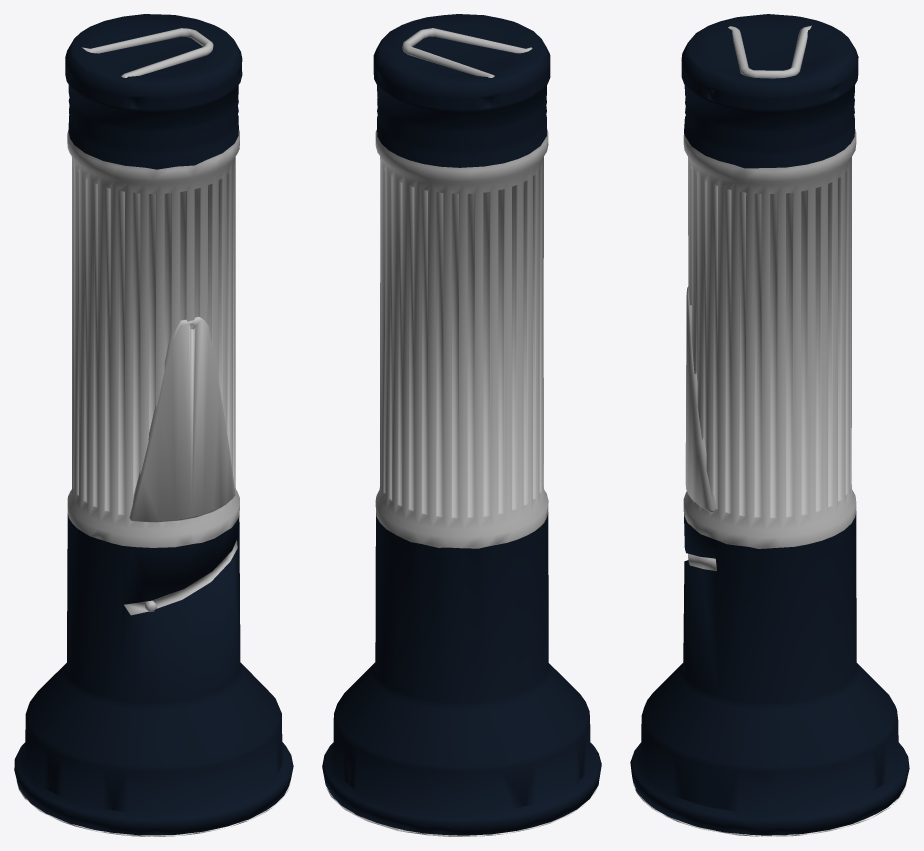
The model's file is flashlight.glb.
3 renders of one model, left to right at view 1: azimuth 30°, elevation 25°; view 2: azimuth 150°, elevation 25°; view 3: azimuth 270°, elevation 25°, orthographic.
Visible parts, largest first — view 1: Flashlight; view 2: Flashlight; view 3: Flashlight.
Boxes of the visible parts, <box> form: Flashlight: <box>14,14,293,836</box>; Flashlight: <box>322,14,601,836</box>; Flashlight: <box>630,14,909,836</box>.
Bounding box in the file's own units: 0.0564 × 0.1632 × 0.0564.
